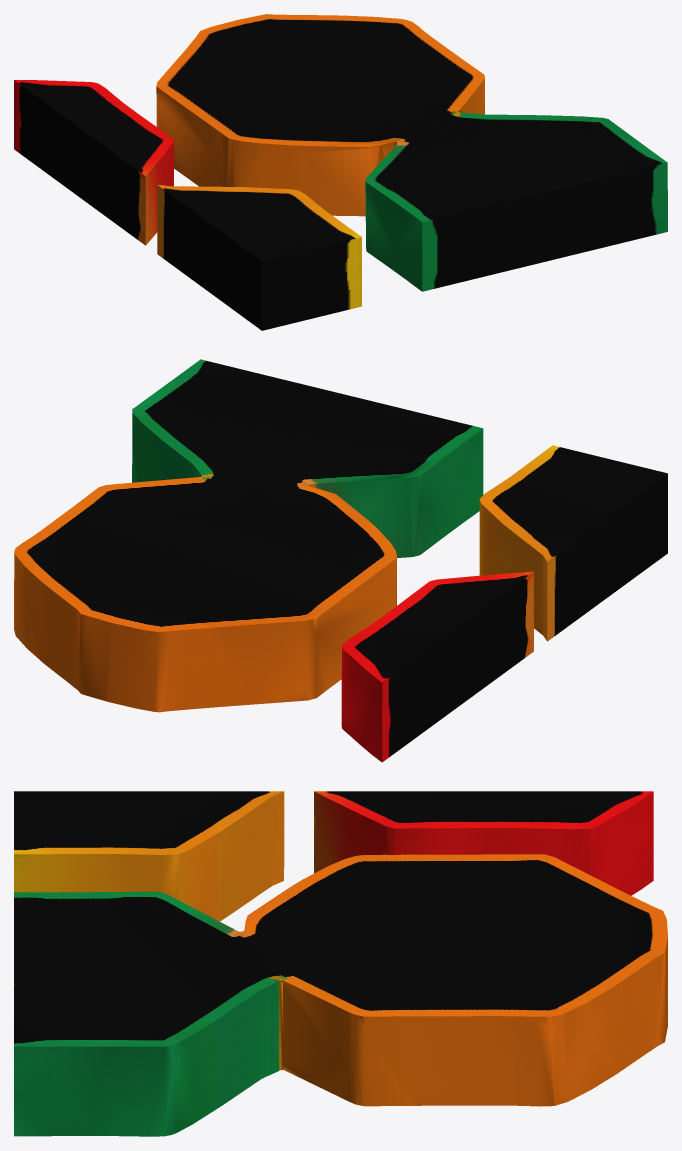
Rendered from 12-roof-back-right.fbx.
3 views of the same model, one above another, from view 1: azimuth 30°, elevation 25°; view 2: azimuth 150°, elevation 25°; view 3: azimuth 270°, elevation 25° (orthographic). The views are drawn at different scales.
Visible parts, largest first — view 1: roof-back-right; view 2: roof-back-right; view 3: roof-back-right.
Part boxes in pixels (bbox=[...]): roof-back-right: bbox=[14, 14, 667, 330]; roof-back-right: bbox=[14, 359, 667, 762]; roof-back-right: bbox=[14, 791, 667, 1136].
Size of the model in its own units: 3175 by 518 by 3430.
Materials: 1 (1 with a texture image).
